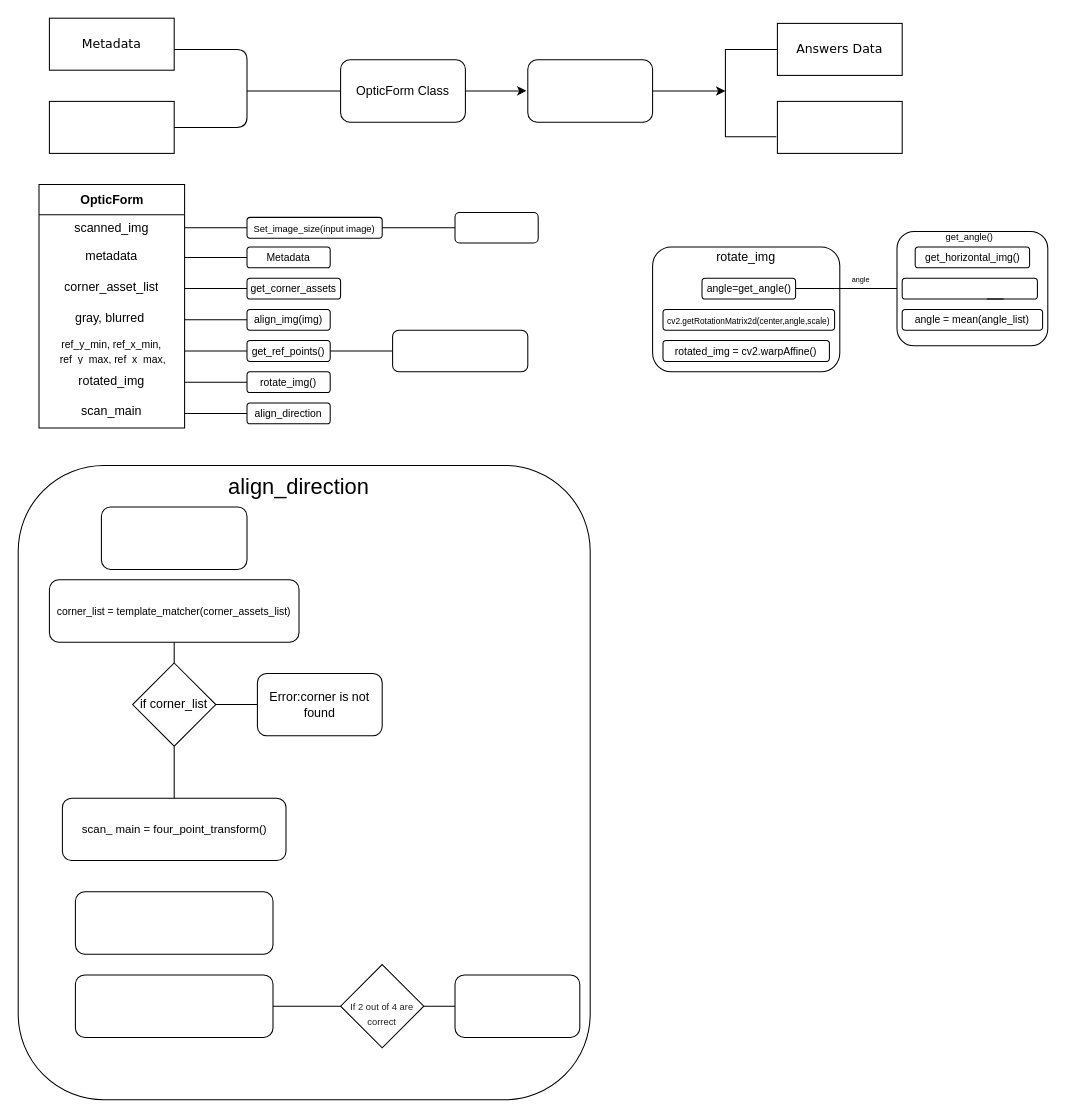
Image size: 1066x1118. Some labels were removed from this diagram. Here are the shapes that lost their labels. From the top down, the box of each, then its label:
(527, 59, 653, 122): OpticForm.read_data
(48, 100, 174, 153): Input Image
(776, 100, 902, 153): Output Image
(454, 211, 538, 243): resize default resolution check horizontal forms
(901, 277, 1037, 299): get_angle_list(horizontal_img)
(392, 329, 528, 372): Read main area start and end points from metadata
(100, 506, 247, 569): align_img(rotated_img)
(74, 891, 273, 954): get number of corner marker (for top corners: 3, for bottom corners: 2)
(74, 974, 273, 1037): check number of corner marker (for top corners: 3, for bottom corners: 2)
(454, 974, 580, 1037): rotate 180
